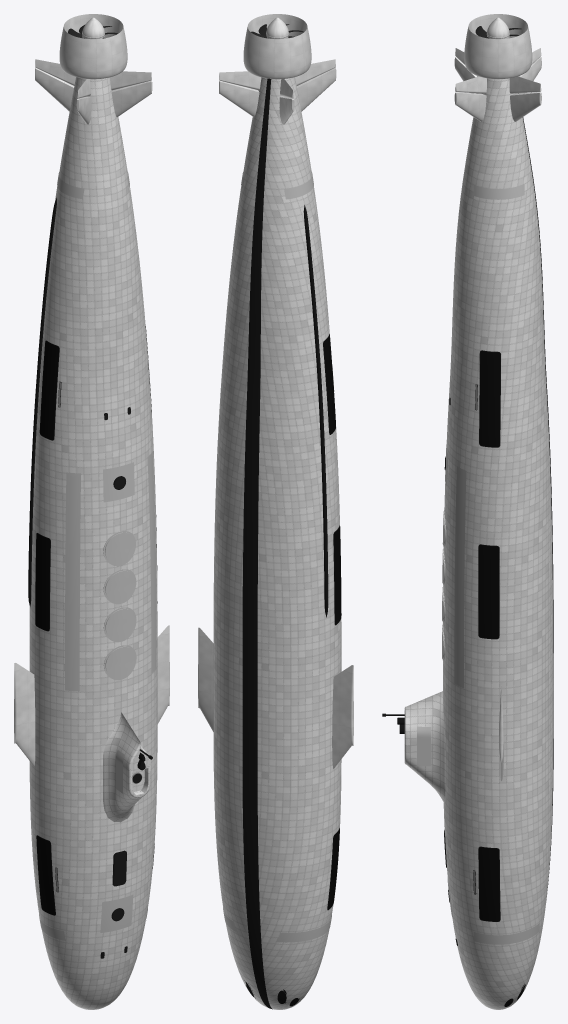
Rendered from submarine-hybrid.obj.
3 views of the same model, side by side, from view 1: azimuth 30°, elevation 25°; view 2: azimuth 150°, elevation 25°; view 3: azimuth 270°, elevation 25° (orthographic).
Visible parts, largest first — view 1: Body, HullName, Sensors, PropellerMount, Tower, PayloadHatches, Fins, elevatorr, RescueRings, HullFittings, elevatorl, PayloadSeams (+5 smaller); view 2: Body, HullPlain, PropellerMount, Fins, Sensors, elevatorr, HullFittings, elevatorl, DraftMarks, tailflap_pl, tailflap_su; view 3: Body, Sensors, PropellerMount, Tower, HullName, Fins, DraftMarks, HullPlain, SensorFrames, SailCode, tailflap_pl, tailflap_pu.
Boxes of the visible parts, x1,y1,x2,y2 form: Body: (29,77,157,1009); HullName: (65,452,156,691); Sensors: (35,326,157,914); PropellerMount: (59,14,127,79); Tower: (103,712,150,822); PayloadHatches: (105,532,135,678); Fins: (35,68,152,124); elevatorr: (14,663,35,766); RescueRings: (100,462,134,932); HullFittings: (28,197,126,921); elevatorl: (157,625,169,723); PayloadSeams: (103,531,136,679); Body: (213,77,341,1009); HullPlain: (242,78,272,1009); PropellerMount: (243,14,311,79); Fins: (219,68,336,124); Sensors: (323,334,341,909); elevatorr: (332,665,353,768); HullFittings: (303,205,328,617); elevatorl: (198,627,213,731); DraftMarks: (223,172,331,942); tailflap_pl: (219,71,261,90); tailflap_su: (295,59,335,85); Body: (443,78,553,1009); Sensors: (478,351,500,921); PropellerMount: (464,14,532,79); Tower: (404,691,445,802); HullName: (454,466,466,688); Fins: (454,57,541,121); DraftMarks: (473,184,539,944); HullPlain: (518,93,553,887); SensorFrames: (473,350,500,921); SailCode: (417,726,431,766); tailflap_pl: (509,76,541,93); tailflap_pu: (455,76,486,93).
Size of the model in its own units: 12 by 73.1 by 11.48.
